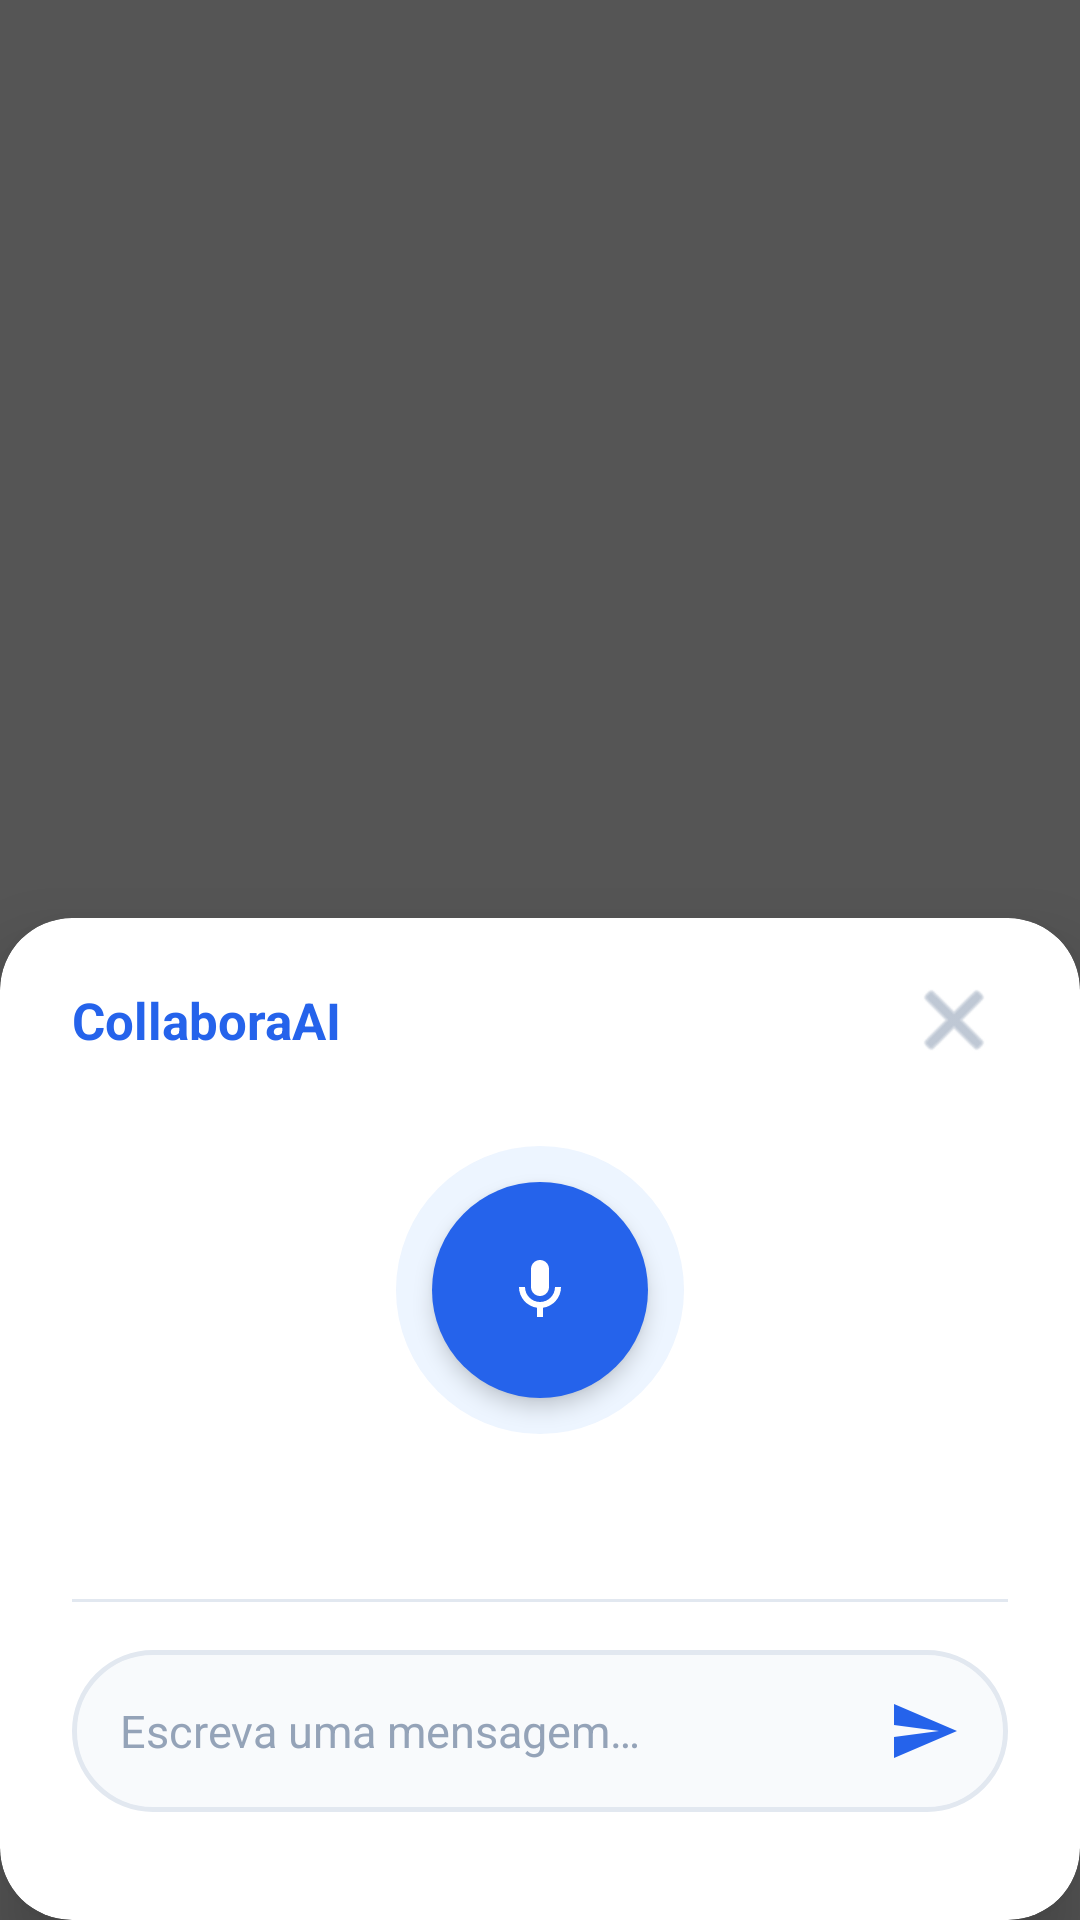

Named icons in this screenshot (1080 × 1920) and their centers, point (x, y):
Enviar: point (925, 1731)
Fechar: point (954, 1020)
Microfone: point (540, 1290)
